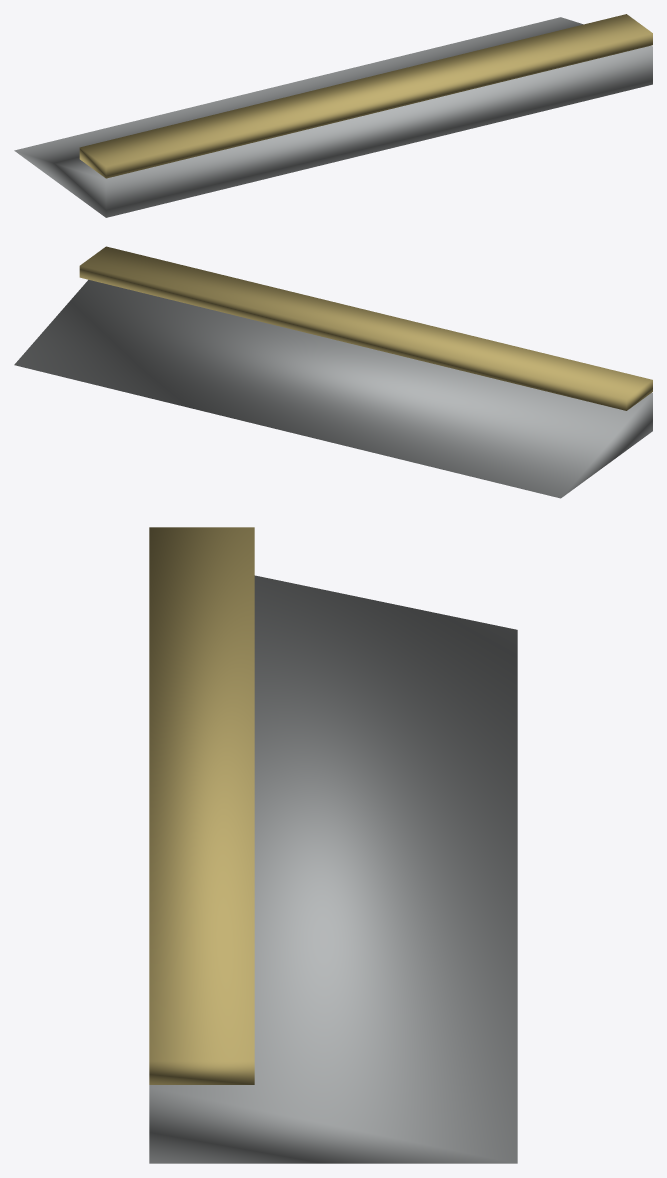
The model's file is curb_ramp_yellow_w120_h8_r35.glb.
The picture shows the model from 3 angles, top to bottom: view 1: azimuth 30°, elevation 25°; view 2: azimuth 150°, elevation 25°; view 3: azimuth 270°, elevation 25°; orthographic projection. The views are drawn at different scales.
Visible parts, largest first — view 1: world; view 2: world; view 3: world.
Boxes of the visible parts, <box> form: world: <box>14,14,652,217</box>; world: <box>14,246,652,498</box>; world: <box>149,527,517,1163</box>.
Bounding box in the file's own units: 1.2 × 0.1075 × 0.35.
